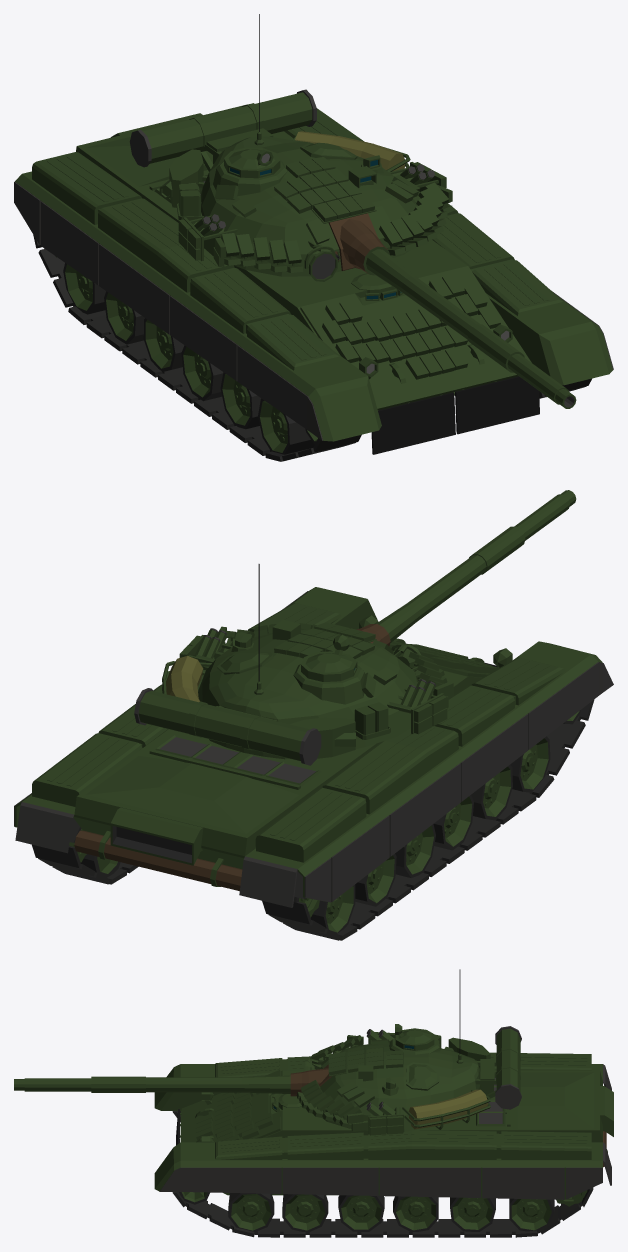
The picture shows the model from 3 angles, top to bottom: view 1: azimuth 30°, elevation 25°; view 2: azimuth 150°, elevation 25°; view 3: azimuth 270°, elevation 25°; orthographic projection. The views are drawn at different scales.
Parts seen in each view (by area): view 1: Hull, Turret, Gun, TrackR, WheelR2, WheelR3, WheelR4, WheelR5, WheelR6, WheelR7; view 2: Hull, Turret, TrackR, Gun, TrackL, WheelR3, WheelR2, WheelR4, WheelR5, WheelR6, WheelR7; view 3: Hull, Turret, Gun, TrackL, WheelL2, WheelL3, WheelL4, WheelL5, WheelL6, WheelL7.
Boxes of the visible parts, left/top/right/bottom form: Hull: left=14, top=104, right=613, bottom=454; Turret: left=129, top=14, right=453, bottom=281; Gun: left=340, top=219, right=576, bottom=408; TrackR: left=33, top=235, right=361, bottom=461; WheelR2: left=258, top=398, right=314, bottom=454; WheelR3: left=220, top=372, right=261, bottom=429; WheelR4: left=181, top=345, right=223, bottom=401; WheelR5: left=143, top=318, right=184, bottom=372; WheelR6: left=104, top=291, right=144, bottom=344; WheelR7: left=63, top=263, right=105, bottom=314; Hull: left=14, top=587, right=613, bottom=907; Turret: left=134, top=564, right=454, bottom=765; TrackR: left=262, top=700, right=594, bottom=940; Gun: left=356, top=490, right=576, bottom=646; TrackL: left=32, top=818, right=138, bottom=884; WheelR3: left=471, top=765, right=512, bottom=820; WheelR2: left=510, top=736, right=550, bottom=792; WheelR4: left=433, top=795, right=473, bottom=850; WheelR5: left=395, top=824, right=435, bottom=877; WheelR6: left=355, top=854, right=396, bottom=906; WheelR7: left=311, top=884, right=355, bottom=933; Hull: left=154, top=1052, right=613, bottom=1199; Turret: left=296, top=969, right=521, bottom=1135; Gun: left=14, top=1068, right=328, bottom=1096; TrackL: left=172, top=1187, right=593, bottom=1237; WheelL2: left=228, top=1193, right=274, bottom=1232; WheelL3: left=282, top=1194, right=328, bottom=1232; WheelL4: left=338, top=1195, right=384, bottom=1231; WheelL5: left=393, top=1196, right=438, bottom=1232; WheelL6: left=450, top=1197, right=495, bottom=1231; WheelL7: left=509, top=1198, right=554, bottom=1231.
Size of what is drawn, in the model's own units: 369 by 370 by 915.
